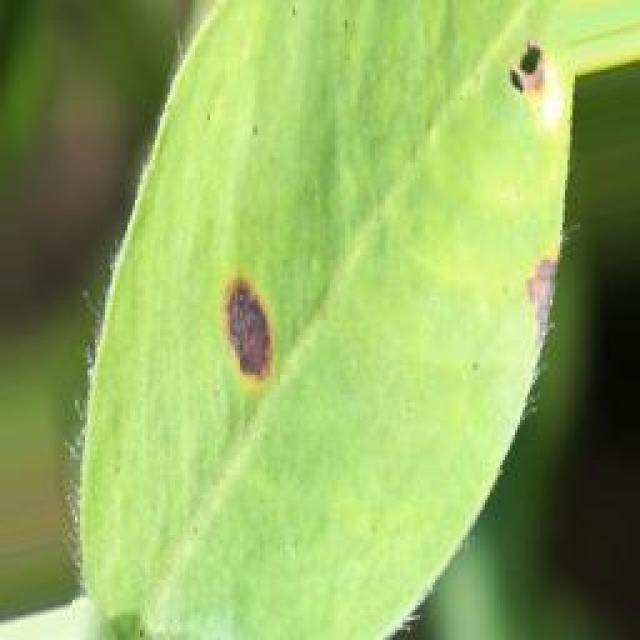Early_leaf_spot: (211, 261, 280, 419), (490, 19, 569, 148), (506, 231, 557, 358)
